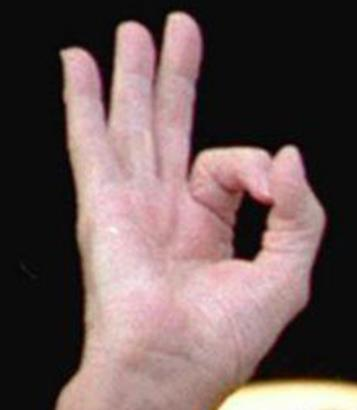left: (54, 7, 328, 385)
